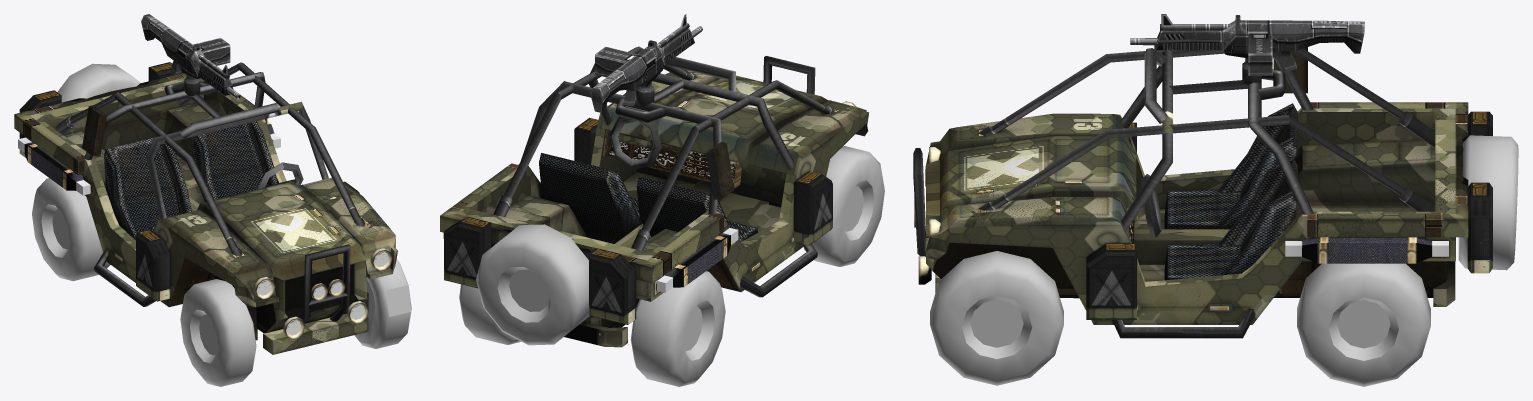
The model's file is Jeep.fbx.
3 renders of one model, left to right at view 1: azimuth 30°, elevation 25°; view 2: azimuth 150°, elevation 25°; view 3: azimuth 270°, elevation 25°, orthographic. The views are drawn at different scales.
Visible parts, largest first — view 1: Jeep_Body, Jeep_FR_Wheel, Jeep_BR_Wheel, Jeep_Gun, Jeep_FL_Wheel; view 2: Jeep_Body, Jeep_BR_Wheel, Jeep_FR_Wheel, Jeep_Gun, Jeep_BL_Wheel; view 3: Jeep_Body, Jeep_FL_Wheel, Jeep_BL_Wheel, Jeep_Gun.
Boxes of the visible parts, left/top/right/bottom form: Jeep_Body: left=14, top=62, right=397, bottom=354; Jeep_FR_Wheel: left=180, top=279, right=256, bottom=386; Jeep_BR_Wheel: left=32, top=178, right=110, bottom=281; Jeep_Gun: left=141, top=14, right=241, bottom=99; Jeep_FL_Wheel: left=354, top=259, right=411, bottom=348; Jeep_Body: left=440, top=46, right=869, bottom=347; Jeep_BR_Wheel: left=630, top=271, right=725, bottom=386; Jeep_FR_Wheel: left=803, top=146, right=884, bottom=266; Jeep_Gun: left=590, top=14, right=702, bottom=112; Jeep_BL_Wheel: left=459, top=284, right=521, bottom=344; Jeep_Body: left=913, top=47, right=1518, bottom=338; Jeep_FL_Wheel: left=930, top=251, right=1063, bottom=385; Jeep_BL_Wheel: left=1297, top=263, right=1430, bottom=386; Jeep_Gun: left=1130, top=14, right=1364, bottom=85.
Size of the model in its own units: 73.49 by 82.28 by 143.
